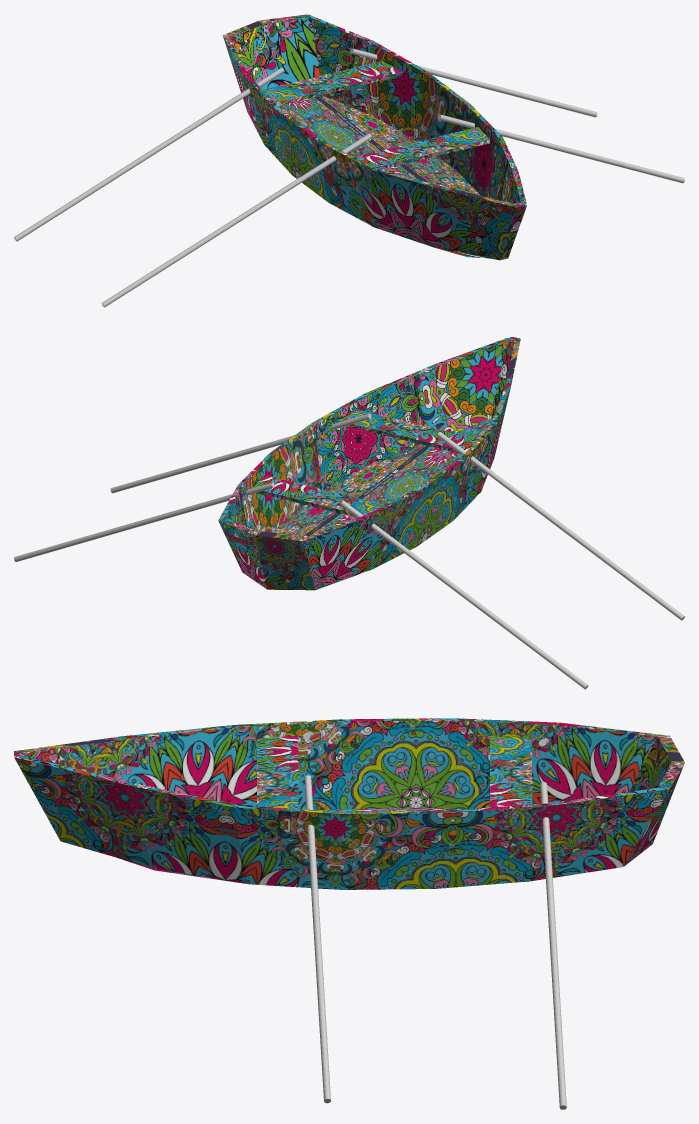
Rendered from boats_1.obj.
3 renders of one model, top to bottom at view 1: azimuth 30°, elevation 25°; view 2: azimuth 150°, elevation 25°; view 3: azimuth 270°, elevation 25°, orthographic. The views are drawn at different scales.
Parts seen in each view (by area): view 1: Cube.134, Cube.133, Cylinder.024, Cylinder.026, Cylinder.027, Cylinder.025; view 2: Cube.134, Cube.133, Cylinder.026, Cylinder.024, Cylinder.025, Cylinder.027; view 3: Cube.134, Cube.133, Cylinder.025, Cylinder.027.
Boxes of the visible parts, x1,y1,x2,y2 form: Cube.134: (222,14,526,260); Cube.133: (263,61,490,169); Cylinder.024: (14,67,284,241); Cylinder.026: (101,133,372,307); Cylinder.027: (437,114,684,183); Cylinder.025: (350,48,597,117); Cube.134: (218,336,520,590); Cube.133: (252,410,478,517); Cylinder.026: (437,432,684,620); Cylinder.024: (340,500,588,689); Cylinder.025: (14,482,274,561); Cylinder.027: (110,413,371,493); Cube.134: (14,718,684,889); Cube.133: (257,736,532,808); Cylinder.025: (540,782,566,1109); Cylinder.027: (304,775,330,1103).
Bounding box in the file's own units: 5.15 × 1.17 × 4.01.
Materials: 4 (3 with a texture image).
